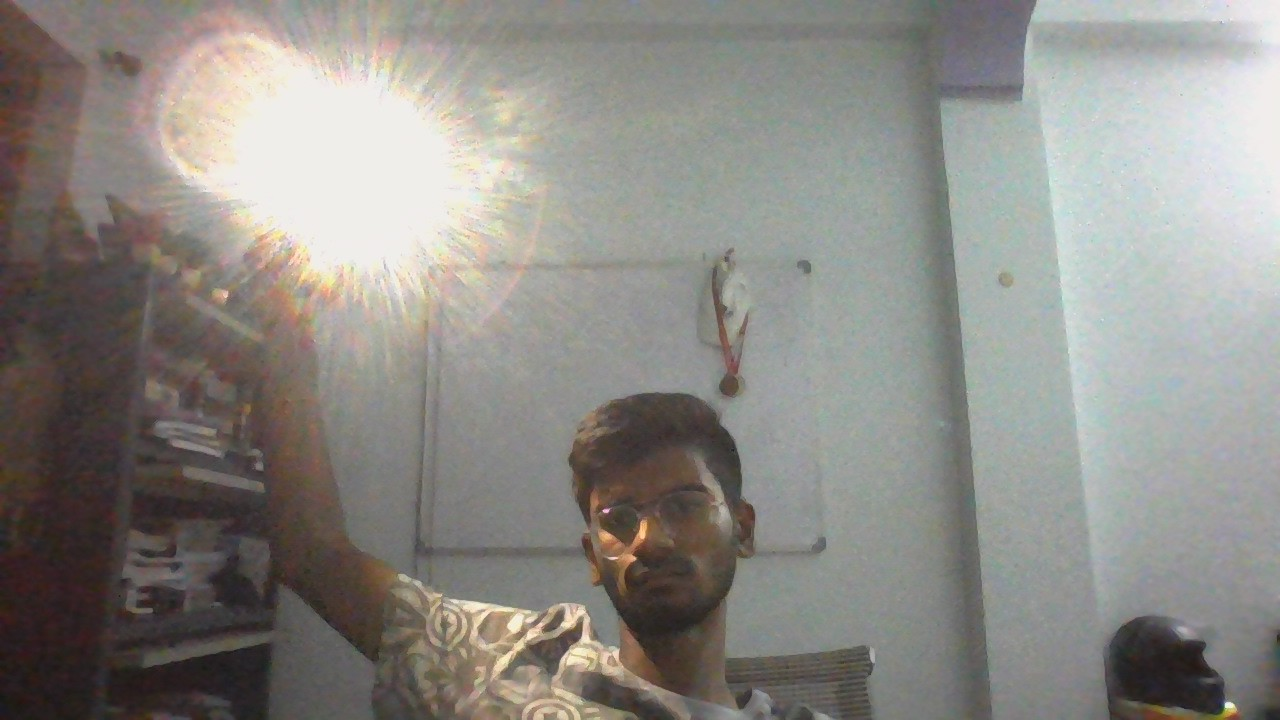Glare: (192, 63, 494, 297)
